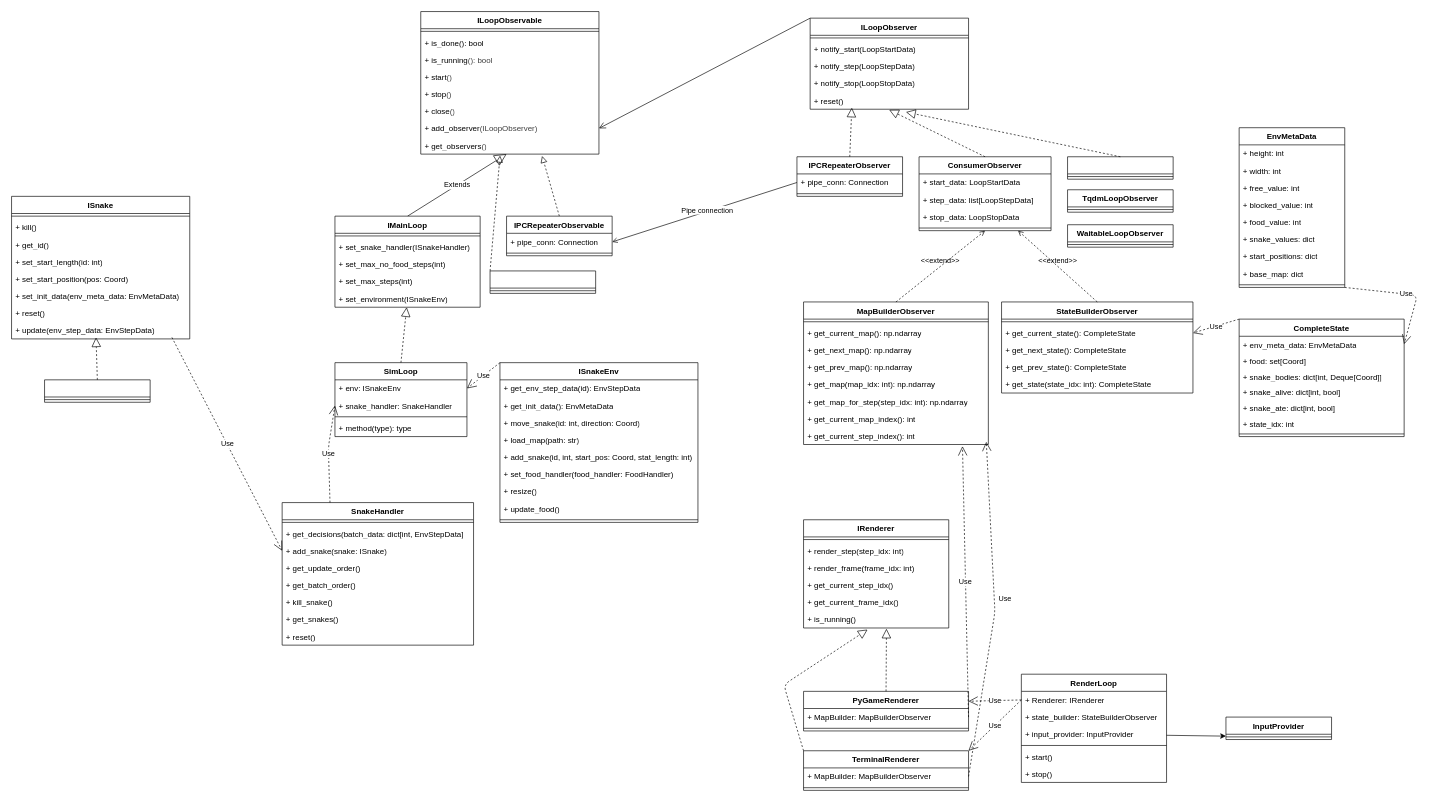
The diagram is 1438 pixels wide and 802 high, and some of its shapes have lost their labels. Here are the shapes that lost their labels. From the top down, the centre of each, then its label:
At (1120,167): "FilePersistObserver".
At (542,281): "FileRepeaterObservable".
At (97,390): "SurvivorSnake".
